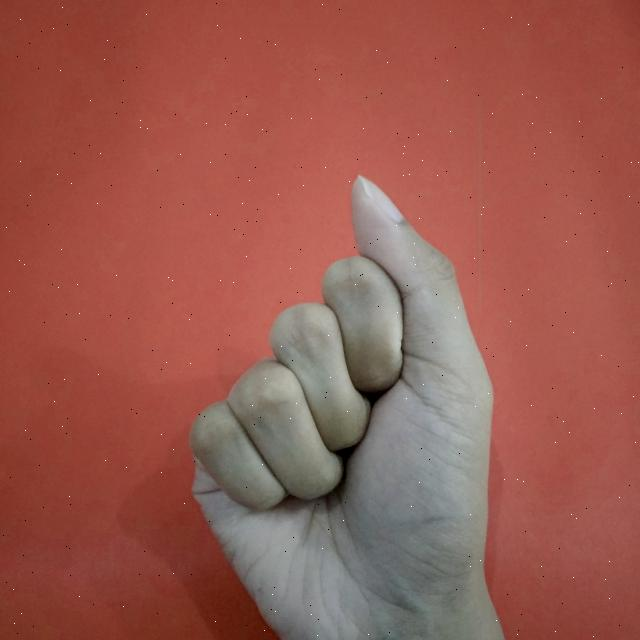A: (184, 159, 529, 640)
